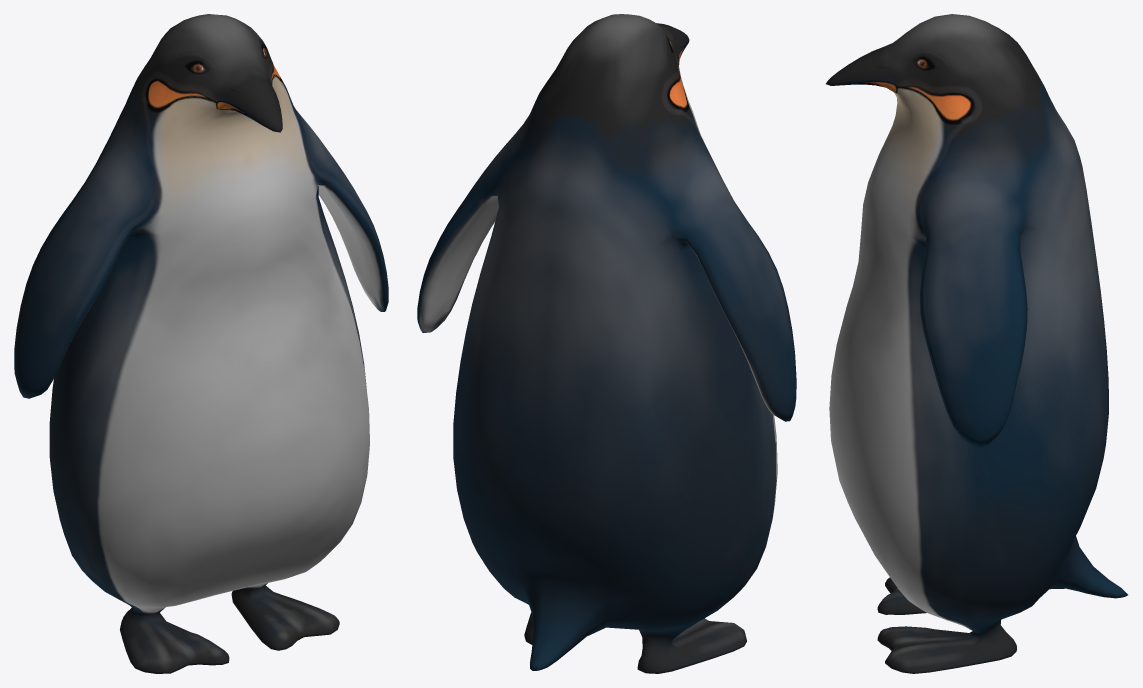
Rendered from penguin2.glb.
3 views of the same model, side by side, from view 1: azimuth 30°, elevation 25°; view 2: azimuth 150°, elevation 25°; view 3: azimuth 270°, elevation 25° (orthographic).
Visible parts, largest first — view 1: Penguin_CH_2; view 2: Penguin_CH_2; view 3: Penguin_CH_2.
Part boxes in pixels (<box>): Penguin_CH_2: <box>14,14,388,673</box>; Penguin_CH_2: <box>417,14,796,673</box>; Penguin_CH_2: <box>826,14,1127,673</box>.
Bounding box in the file's own units: 90.11 × 145 × 65.48.
Materials: 1 (1 with a texture image).
